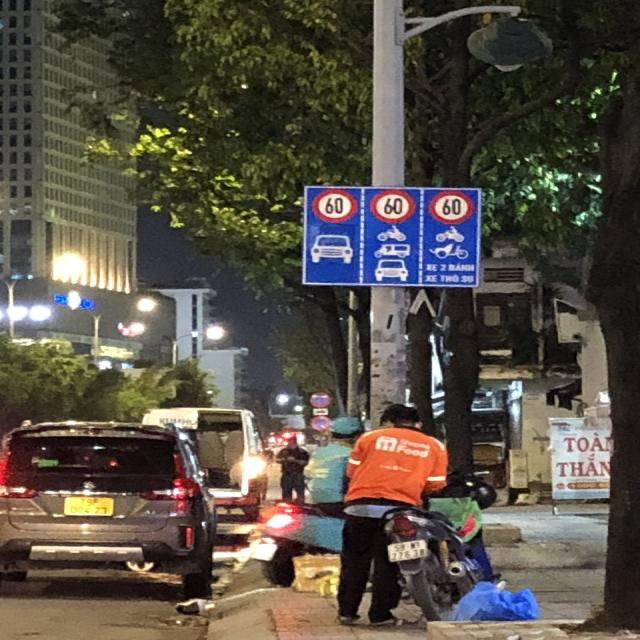Bien bao toc do toi da cho phep: (310, 184, 362, 225), (428, 187, 480, 226), (369, 186, 419, 225)
